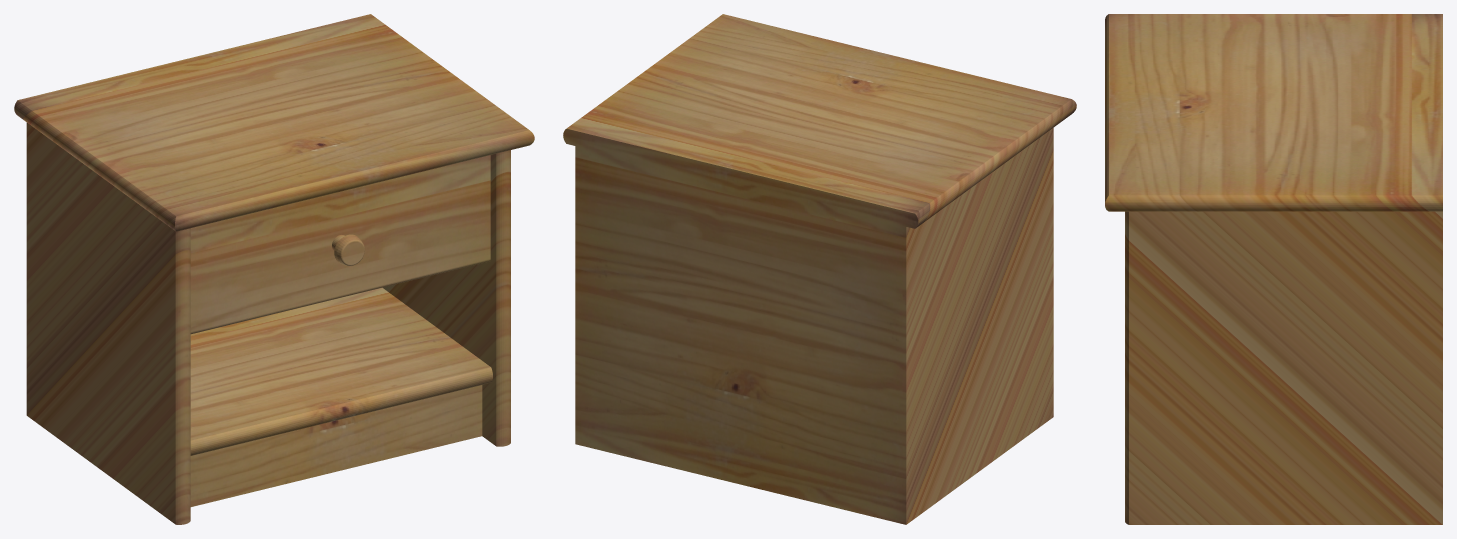
Rendered from table.obj.
3 views of the same model, side by side, from view 1: azimuth 30°, elevation 25°; view 2: azimuth 150°, elevation 25°; view 3: azimuth 270°, elevation 25° (orthographic). The views are drawn at different scales.
Parts seen in each view (by area): view 1: default_1_1; view 2: default_1_1; view 3: default_1_1.
Boxes of the visible parts, x1=… form: default_1_1: x1=14, y1=14, x2=534, y2=524; default_1_1: x1=563, y1=14, x2=1076, y2=524; default_1_1: x1=1105, y1=14, x2=1442, y2=524.
Bounding box in the file's own units: 44 × 37.1 × 34.
1 material, 1 textured.
